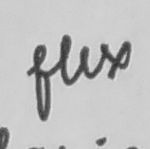e: (76, 42, 95, 82)
f: (24, 41, 53, 124)
l: (56, 30, 75, 89)
x: (96, 38, 133, 80)
